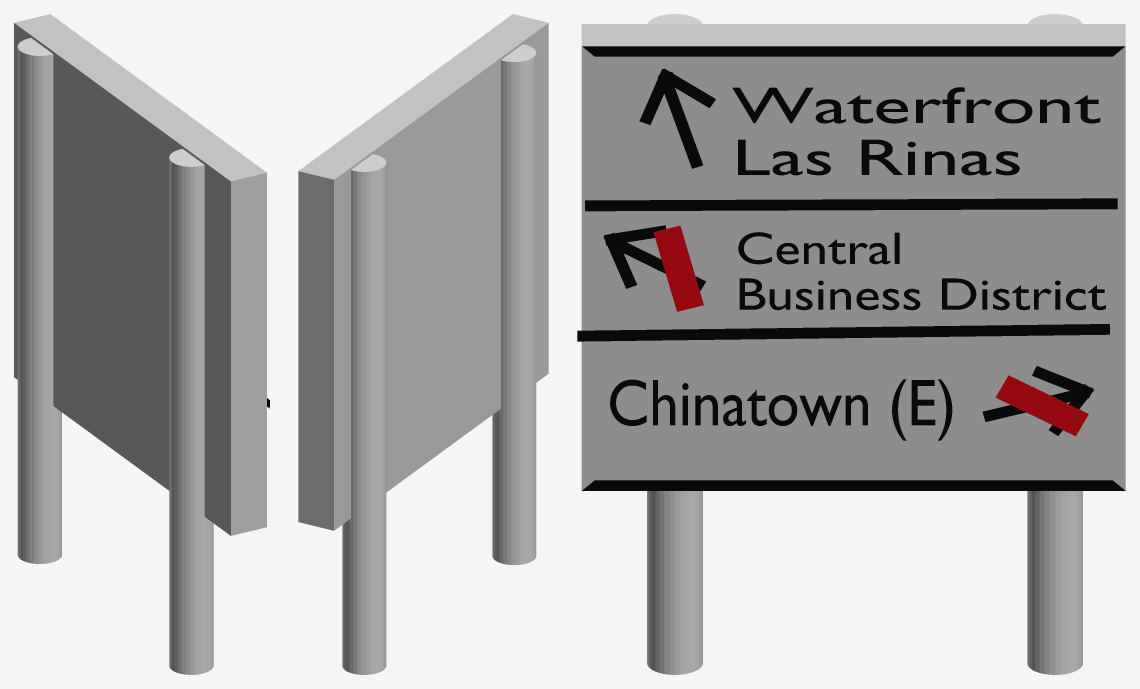
The model's file is UK_junction_sign_22.fbx.
3 views of the same model, side by side, from view 1: azimuth 30°, elevation 25°; view 2: azimuth 150°, elevation 25°; view 3: azimuth 270°, elevation 25° (orthographic). The views are drawn at different scales.
Visible parts, largest first — view 1: Cube.001, Cylinder.001, Cylinder; view 2: Cube.001, Cylinder, Cylinder.001; view 3: Cube.001, Cylinder.001, Cylinder, Text, Plane.001, Plane.012, Text.001, Text.003, Plane.009, Plane.007, Plane.003.
Part boxes in pixels (x1,y1,x2,y2): Cube.001: (14,14,266,535); Cylinder.001: (17,38,61,563); Cylinder: (169,149,213,674); Cube.001: (298,14,548,530); Cylinder: (492,44,536,565); Cylinder.001: (342,154,386,674); Cube.001: (581,24,1125,490); Cylinder.001: (1027,14,1082,674); Cylinder: (647,14,702,674); Text: (732,87,1100,175); Plane.001: (585,198,1117,211); Plane.012: (577,324,1109,341); Text.001: (738,232,1105,310); Text.003: (610,379,952,440); Plane.009: (995,375,1088,436); Plane.007: (653,225,703,311); Plane.003: (661,82,702,168).
Size of the model in its own units: 6.29 by 50.59 by 39.25.
